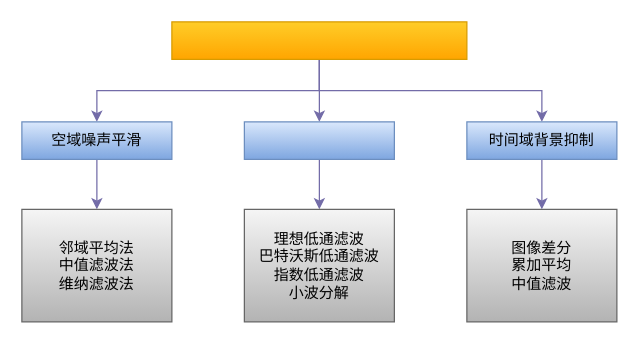
Image size: 639x344. Some labels were removed from this diagram. Here are the shapes that lost their labels. From the top down, the centre of each, then its label:
At (319,40): "红外探测预处理技术".
At (318,140): "变换域噪声滤波".
